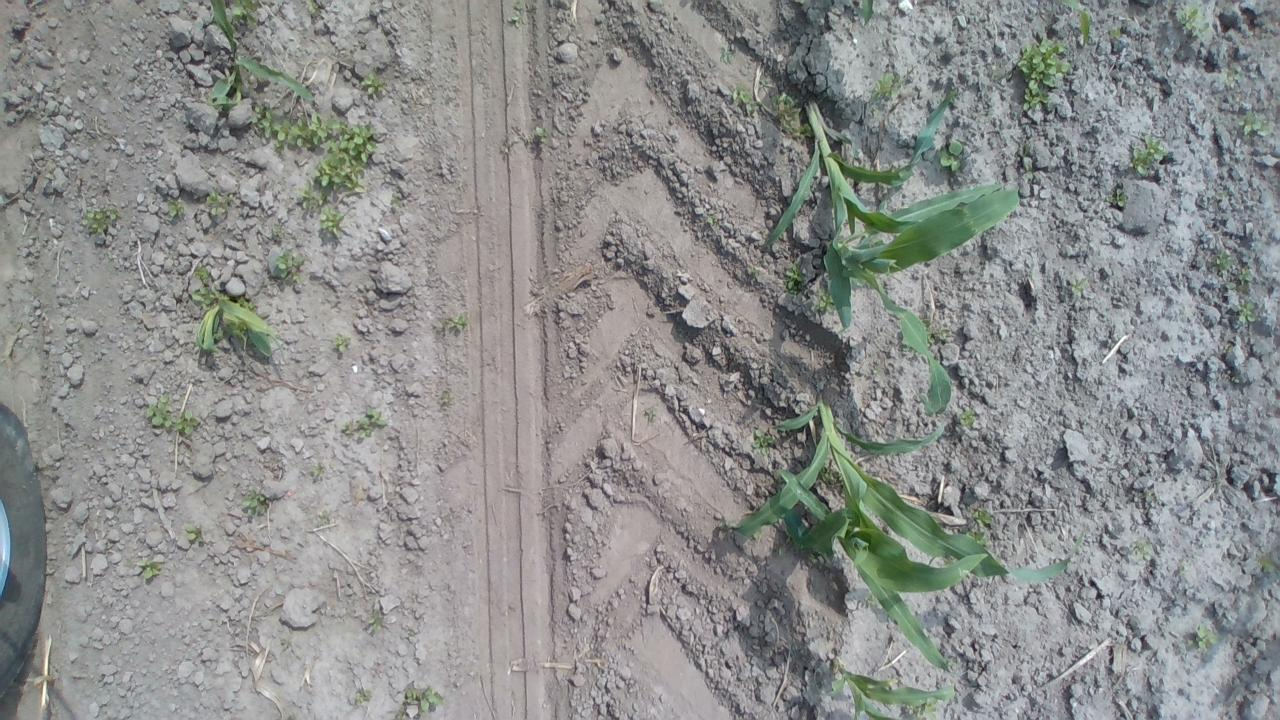Maize: (761, 88, 1021, 418), (714, 389, 1084, 586), (774, 466, 988, 672), (208, 0, 317, 108), (827, 654, 958, 720), (190, 286, 288, 362), (1042, 0, 1095, 46), (856, 0, 877, 28)
Weeds: (250, 92, 378, 212), (1016, 36, 1072, 112), (146, 392, 201, 435), (768, 88, 814, 138), (398, 684, 448, 720), (341, 405, 390, 441), (1129, 135, 1168, 177), (966, 506, 996, 549), (79, 204, 122, 233), (1176, 4, 1214, 36), (274, 250, 307, 286), (318, 204, 346, 239), (937, 138, 964, 174), (1187, 624, 1218, 654), (1236, 112, 1274, 136), (731, 83, 760, 114), (204, 189, 236, 217), (871, 72, 904, 98), (782, 262, 806, 294), (242, 487, 270, 514), (358, 70, 388, 95), (752, 428, 777, 457), (904, 699, 938, 720), (230, 0, 258, 25), (812, 286, 837, 312), (1226, 268, 1255, 290), (924, 318, 948, 344), (1216, 247, 1236, 276), (137, 558, 162, 581), (1019, 152, 1036, 184), (366, 605, 385, 632), (1130, 538, 1154, 559), (441, 313, 470, 330), (510, 0, 527, 29), (1256, 552, 1278, 574), (820, 466, 840, 488), (165, 199, 187, 218), (182, 523, 204, 542), (959, 406, 976, 430), (1238, 301, 1256, 323), (334, 332, 352, 353), (190, 264, 210, 282), (1070, 276, 1088, 296), (1106, 190, 1128, 206), (532, 124, 549, 144), (238, 297, 257, 313), (1223, 69, 1243, 84), (804, 552, 822, 568), (745, 263, 761, 281), (719, 46, 734, 64), (706, 214, 721, 232), (864, 591, 880, 607), (356, 688, 372, 704), (306, 0, 320, 16), (1108, 26, 1122, 42), (644, 407, 658, 422), (272, 224, 285, 240), (774, 544, 786, 561), (100, 250, 114, 264), (390, 193, 402, 209), (318, 510, 331, 522), (946, 658, 960, 669), (950, 89, 960, 104), (310, 464, 322, 476), (758, 78, 769, 88), (872, 108, 882, 119), (870, 366, 880, 375), (1143, 490, 1151, 496)
